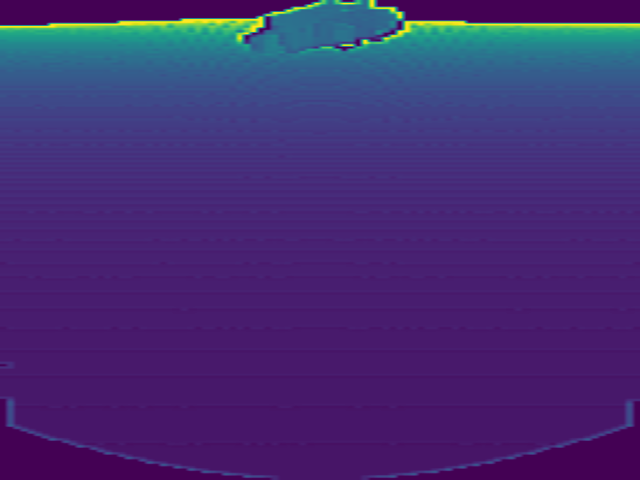car_0027: (241, 1, 407, 57)
